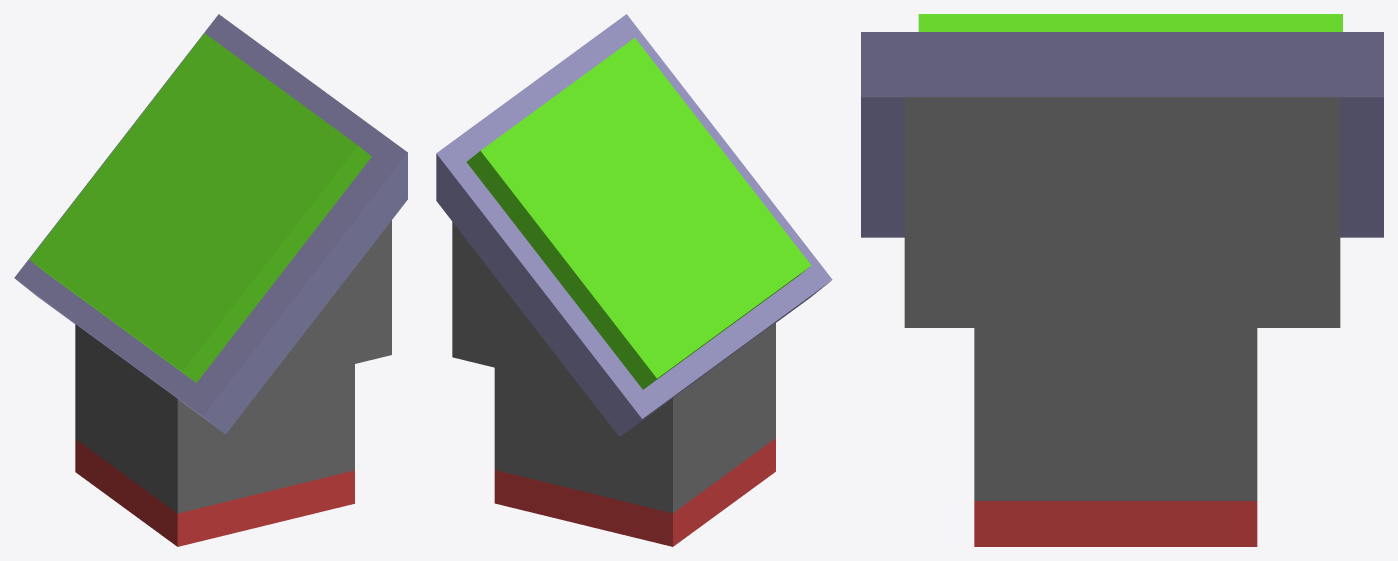
File: spaceship_controlpanel.glb
The picture shows the model from 3 angles, left to right: view 1: azimuth 30°, elevation 25°; view 2: azimuth 150°, elevation 25°; view 3: azimuth 270°, elevation 25°; orthographic projection. The views are drawn at different scales.
Parts seen in each view (by area): view 1: roof_flatCenter, block_quarter, roof_half; view 2: roof_flatCenter, block_quarter, roof_half; view 3: roof_half, block_quarter, roof_flatCenter.
Part boxes in pixels (x1,y1,x2,y2): roof_flatCenter: [29, 33, 371, 382]; block_quarter: [75, 324, 354, 546]; roof_half: [14, 14, 407, 434]; roof_flatCenter: [466, 38, 811, 389]; block_quarter: [494, 322, 775, 546]; roof_half: [436, 14, 832, 437]; roof_half: [861, 32, 1383, 327]; block_quarter: [974, 328, 1257, 546]; roof_flatCenter: [918, 14, 1342, 31].
Bounding box in the file's own units: 0.5773 × 1.02 × 0.924.
